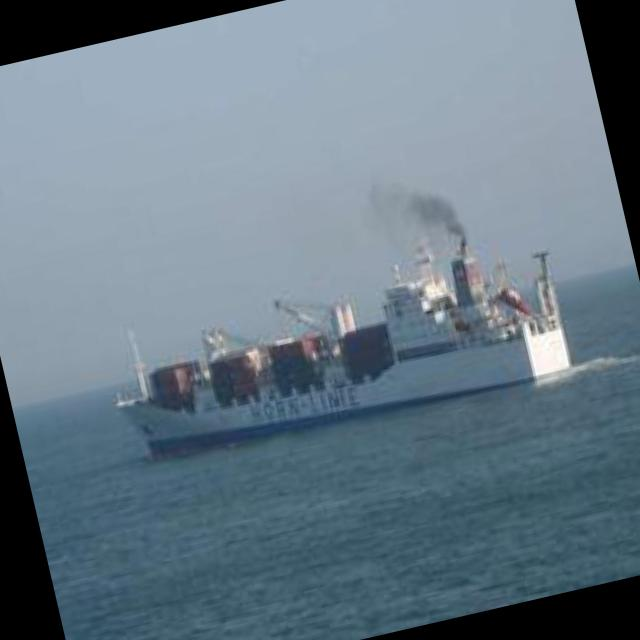boat: (97, 248, 604, 487)
